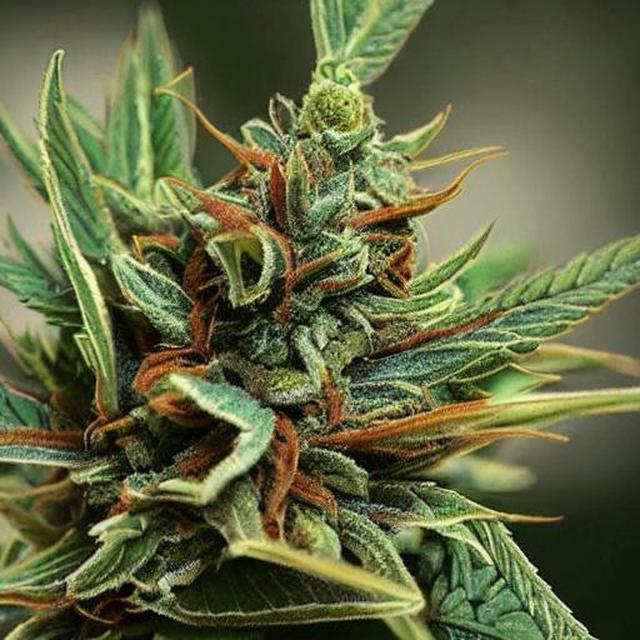Marijuana Joint: (125, 4, 480, 635)
